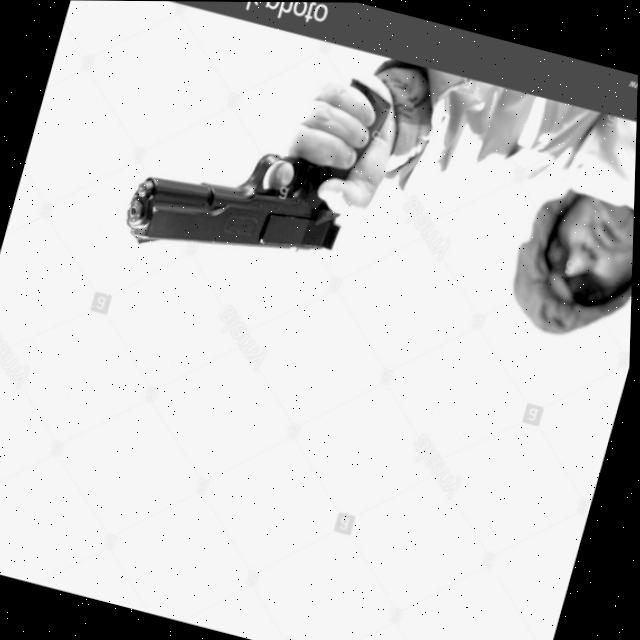pistol: (117, 116, 360, 295)
